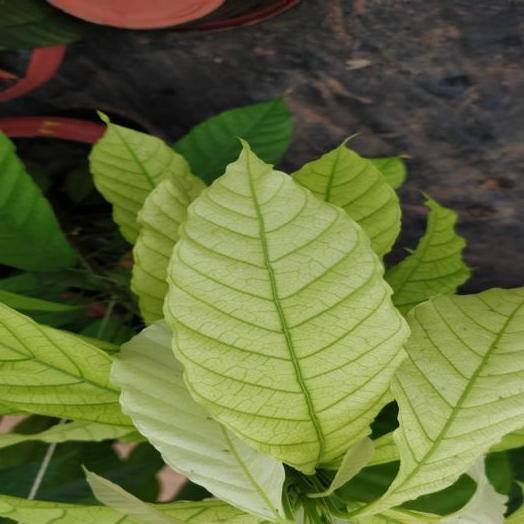Iron: (164, 142, 408, 473), (362, 288, 523, 514)
